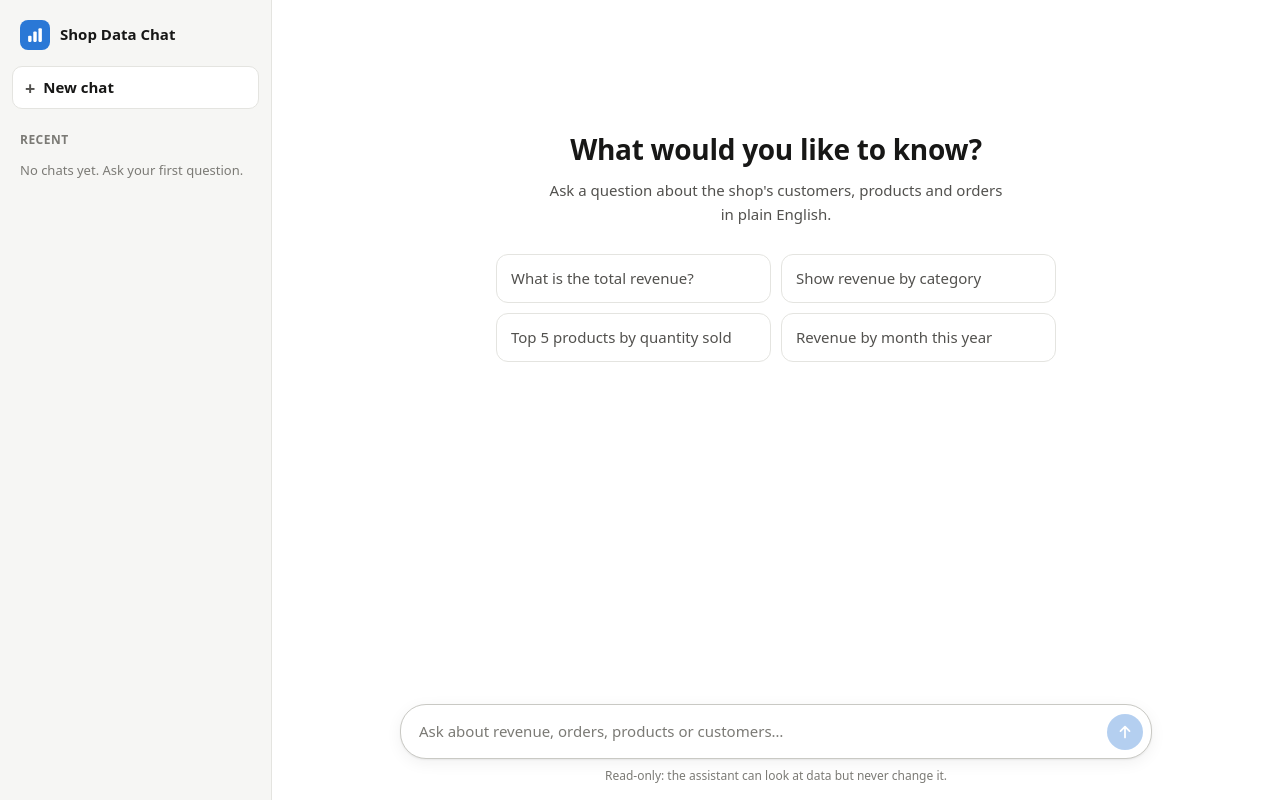
the chat page › shows the summary and a table for an answer
Step 1. Type "show revenue by category" into the text box named "Ask a question" → (759,732), box [419,713,1099,750]
Then press Enter
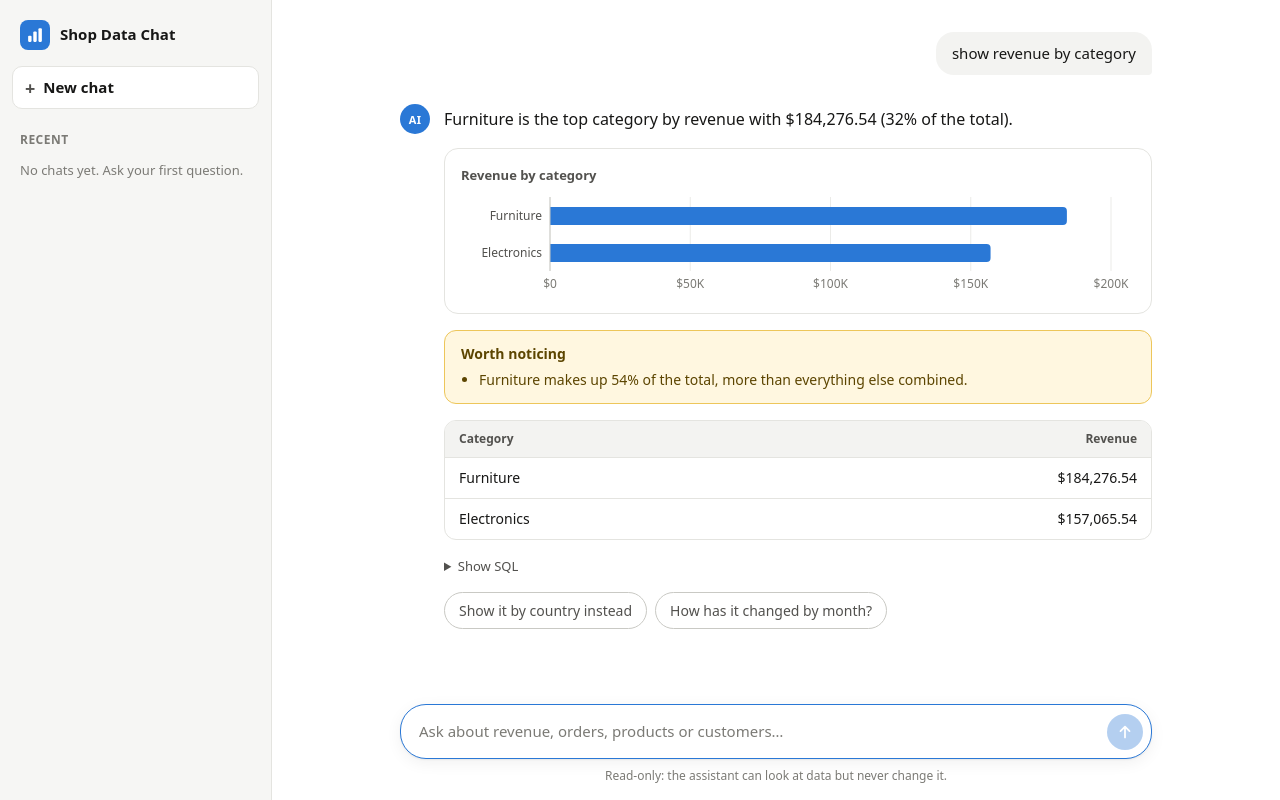
Expected: the text "Furniture is the top category by revenue with $184,276.54 (32% of the total)." is shown, [444,108,1013,130]
Expected: the column heading "Category" is shown, [445,421,783,458]
Expected: the text "Furniture" is shown, [445,458,783,498]
